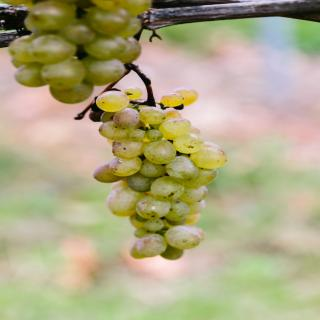Grape: (90, 88, 228, 260), (1, 0, 154, 103)
